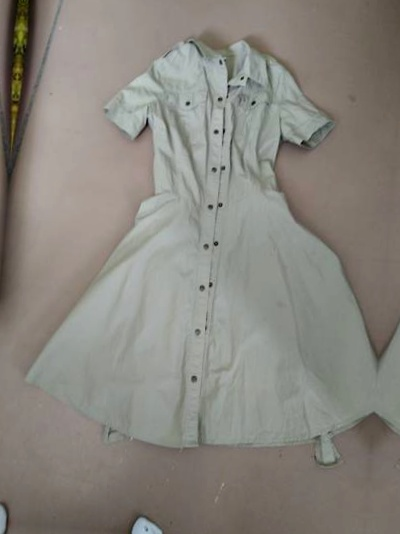Dress: (14, 7, 400, 494), (368, 36, 400, 522)
